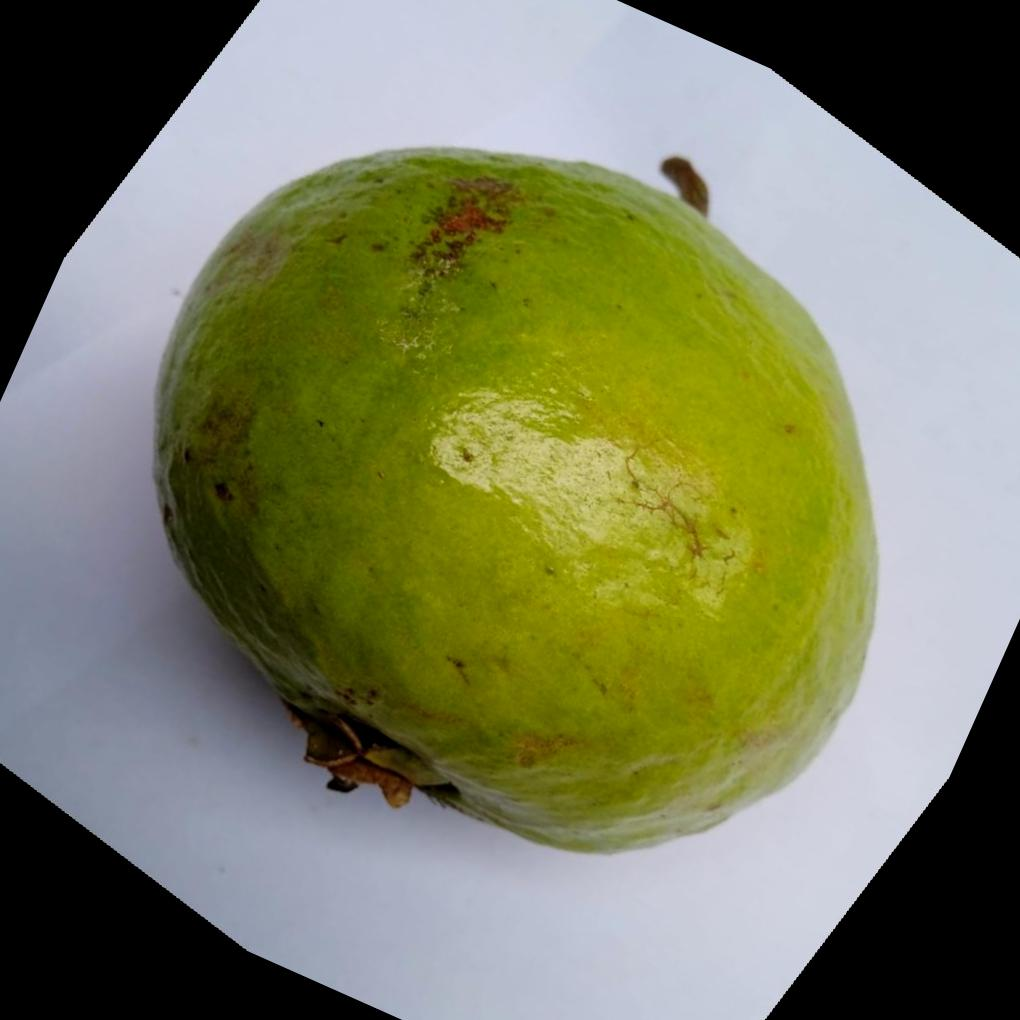FreshGuava: (153, 146, 882, 857)
